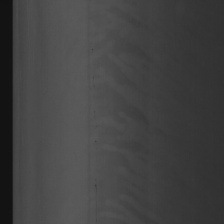inclusion: (99, 14, 141, 215), (90, 40, 95, 98), (93, 178, 99, 219), (92, 108, 97, 148)
